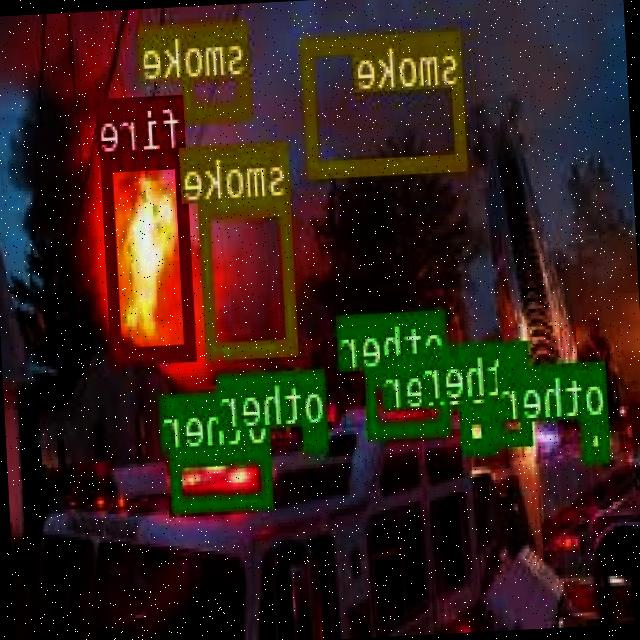fire: (104, 149, 198, 361)
smoke: (304, 28, 468, 174), (201, 197, 300, 357), (182, 21, 253, 116)
